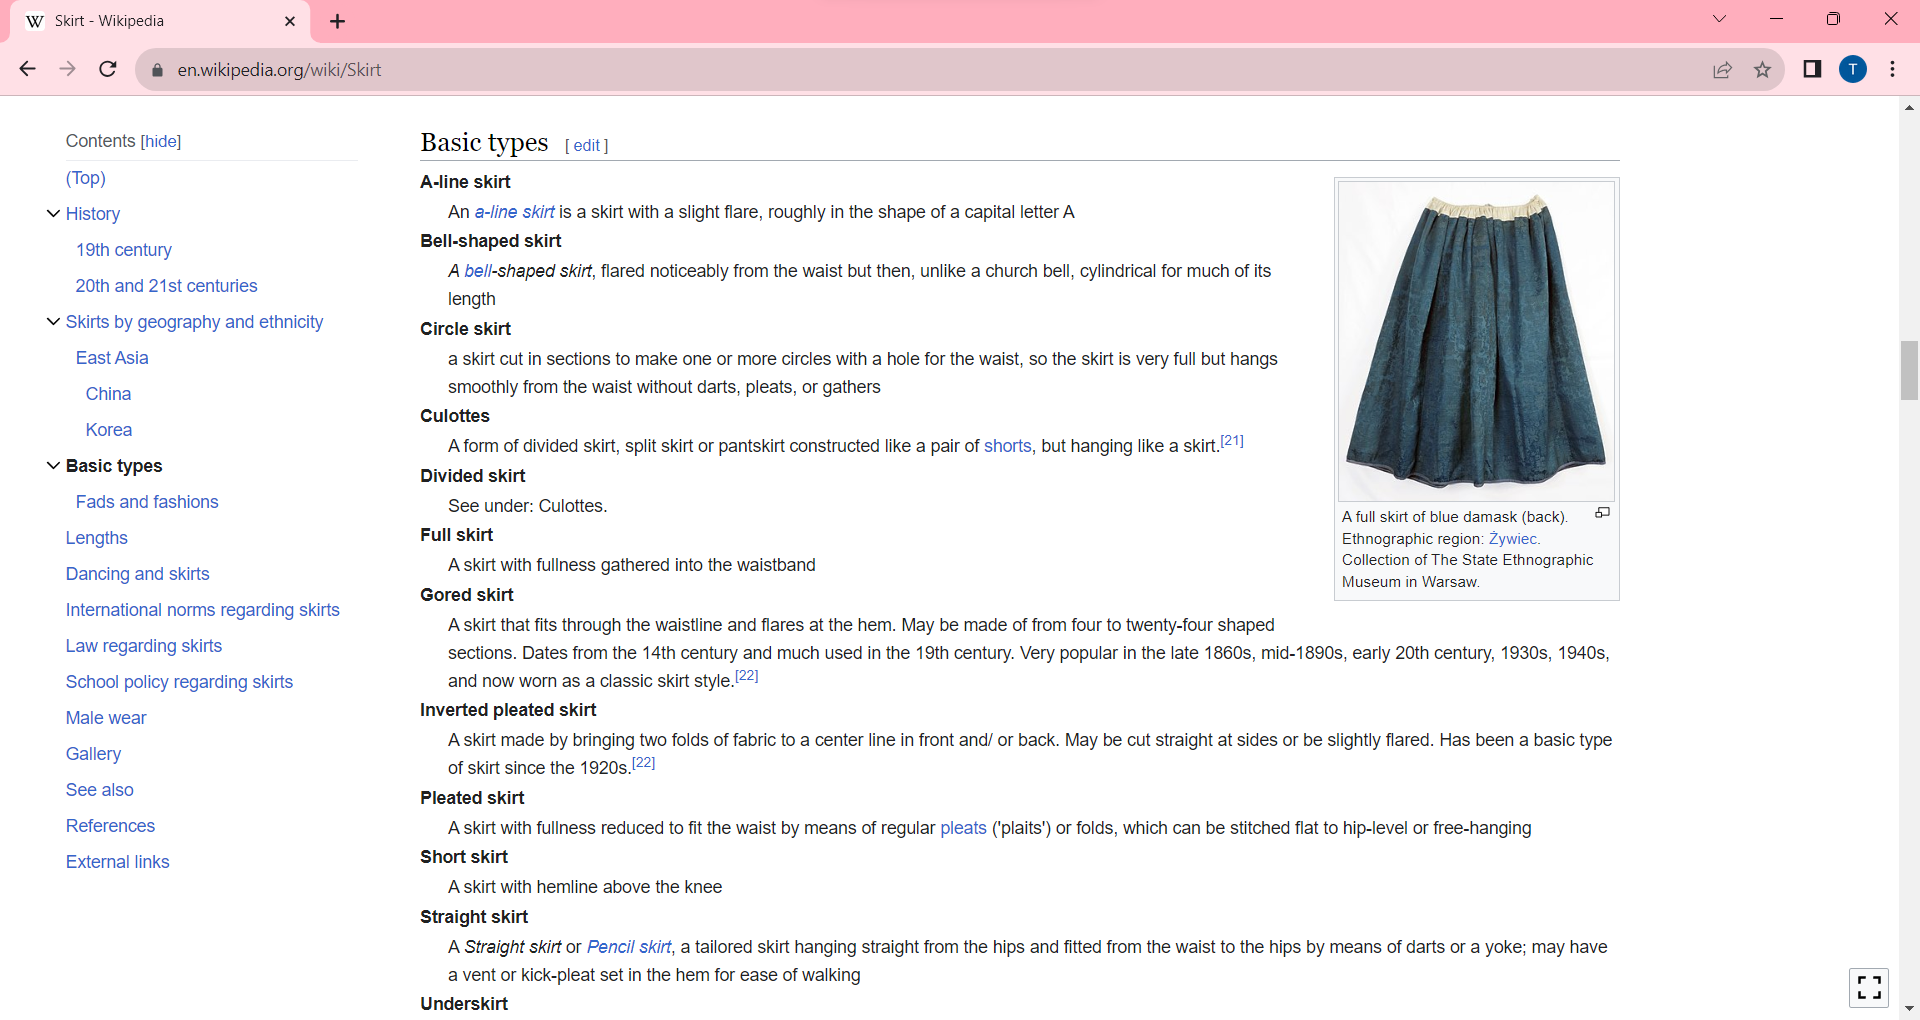Image: (1333, 174, 1619, 504)
Paragraph: (444, 607, 1618, 695), (429, 724, 1638, 784), (441, 936, 1641, 988), (438, 254, 1276, 311), (438, 349, 1294, 403), (436, 815, 1571, 841), (442, 436, 1251, 460), (442, 199, 1107, 222), (63, 305, 328, 339), (55, 591, 347, 620), (55, 669, 311, 699), (441, 555, 823, 574), (396, 690, 613, 721), (63, 625, 226, 667), (429, 876, 726, 899), (48, 838, 187, 883), (60, 442, 171, 487), (74, 276, 277, 299), (415, 123, 555, 156), (57, 555, 213, 584), (442, 492, 613, 517), (61, 492, 229, 517), (413, 225, 565, 250), (55, 127, 187, 156), (61, 809, 171, 841), (403, 784, 540, 809), (66, 235, 175, 264), (410, 461, 533, 487), (42, 161, 133, 194), (417, 991, 521, 1019), (413, 842, 514, 870), (70, 340, 163, 371), (410, 315, 524, 339), (61, 766, 140, 800), (413, 584, 531, 607), (410, 518, 498, 549), (406, 908, 542, 927), (60, 708, 161, 733), (55, 734, 137, 765), (419, 165, 517, 191), (417, 400, 489, 428), (74, 409, 140, 438), (67, 199, 133, 226), (66, 379, 136, 403), (66, 523, 131, 549)
